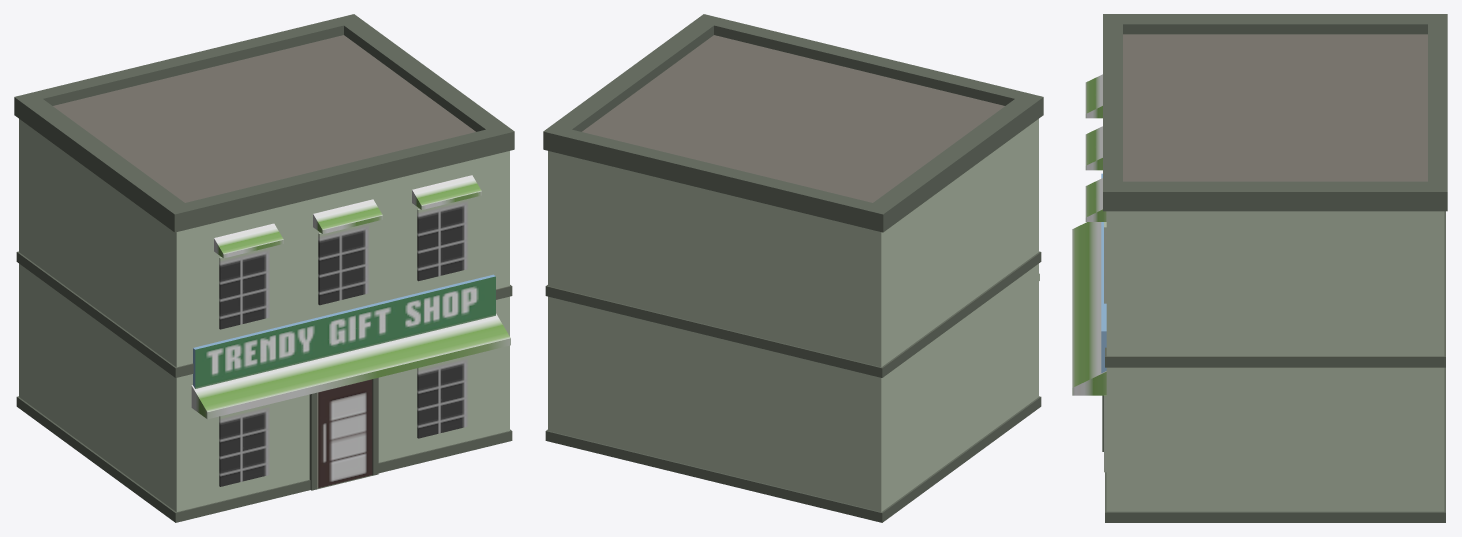
Rendered from Building_Chicken Shop.fbx.
The picture shows the model from 3 angles, left to right: view 1: azimuth 30°, elevation 25°; view 2: azimuth 150°, elevation 25°; view 3: azimuth 270°, elevation 25°; orthographic projection. The views are drawn at different scales.
Visible parts, largest first — view 1: Building_Chicken Shop; view 2: Building_Chicken Shop; view 3: Building_Chicken Shop.
Part boxes in pixels (bbox=[...]): Building_Chicken Shop: bbox=[14, 14, 514, 522]; Building_Chicken Shop: bbox=[543, 14, 1043, 522]; Building_Chicken Shop: bbox=[1072, 14, 1447, 522].
Bounding box in the file's own units: 1122 × 976 × 1000.
